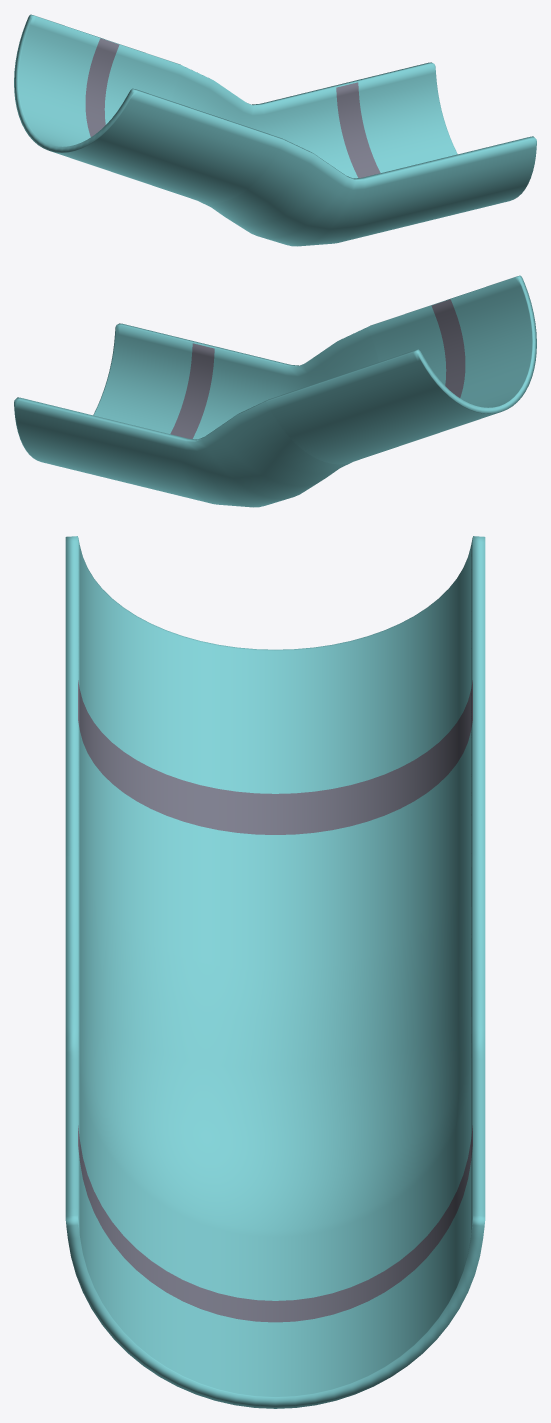
The model's file is ImprovedSlideSlope2Flat.fbx.
3 renders of one model, top to bottom at view 1: azimuth 30°, elevation 25°; view 2: azimuth 150°, elevation 25°; view 3: azimuth 270°, elevation 25°, orthographic. The views are drawn at different scales.
Parts seen in each view (by area): view 1: Slide Slope to Flat; view 2: Slide Slope to Flat; view 3: Slide Slope to Flat.
Part boxes in pixels (x1,y1,x2,y2): Slide Slope to Flat: [14, 14, 536, 246]; Slide Slope to Flat: [14, 275, 536, 507]; Slide Slope to Flat: [65, 536, 485, 1408].
Bounding box in the file's own units: 1013 × 520 × 412.
